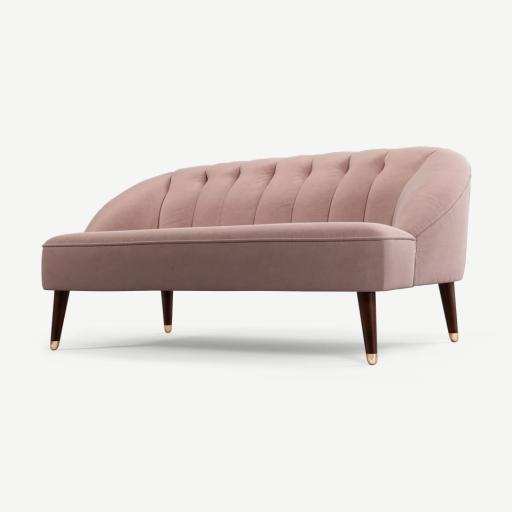back_cushion: (88, 148, 447, 231)
left_arm: (392, 149, 470, 285)
legs: (358, 292, 377, 364), (439, 282, 458, 342), (50, 291, 69, 350), (162, 291, 172, 333)
one-seater: (42, 147, 470, 364)
seat_cushion: (43, 222, 416, 291)
